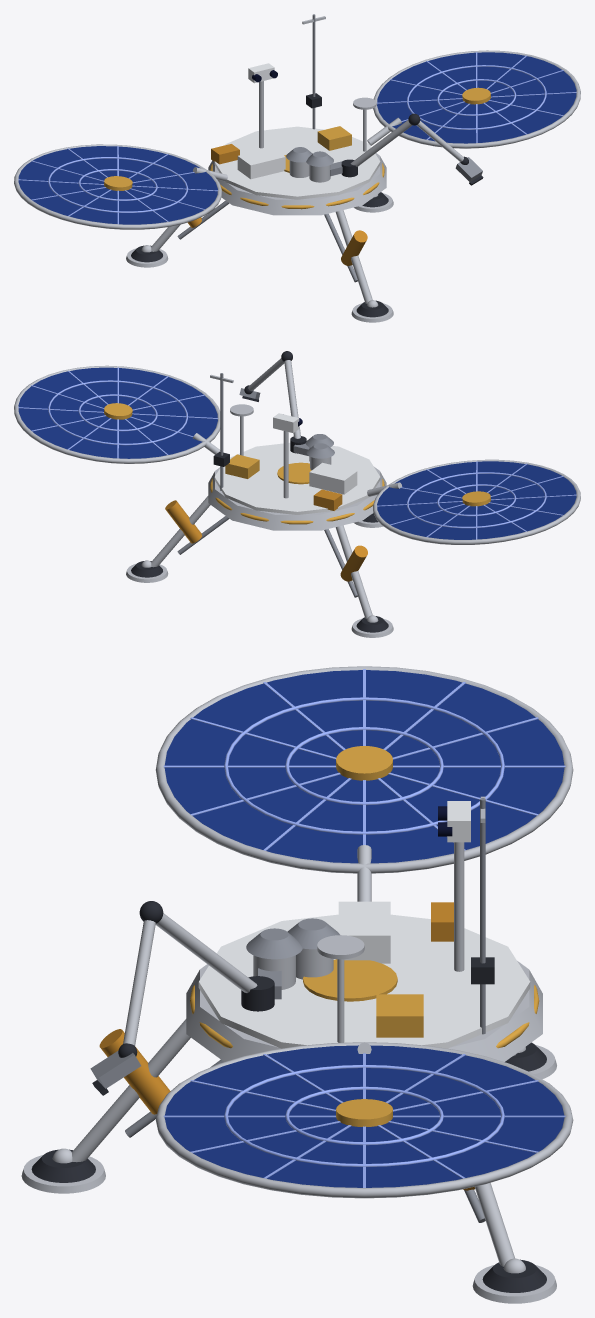
The model's file is phoenix.glb.
3 renders of one model, top to bottom at view 1: azimuth 30°, elevation 25°; view 2: azimuth 150°, elevation 25°; view 3: azimuth 270°, elevation 25°, orthographic. The views are drawn at different scales.
Visible parts, largest first — view 1: solar-fan (×2), phoenix, footpad (×3), scoop; view 2: solar-fan (×2), phoenix, footpad (×2); view 3: solar-fan (×2), phoenix, footpad (×3), scoop.
Part boxes in pixels (bbox=[...]): solar-fan (×2): bbox=[14, 50, 580, 229]; phoenix: bbox=[151, 14, 468, 303]; footpad (×3): bbox=[126, 192, 393, 322]; scoop: bbox=[455, 157, 483, 185]; solar-fan (×2): bbox=[14, 365, 580, 544]; phoenix: bbox=[151, 351, 402, 619]; footpad (×2): bbox=[126, 560, 393, 637]; solar-fan (×2): bbox=[155, 666, 573, 1198]; phoenix: bbox=[71, 796, 542, 1266]; footpad (×3): bbox=[21, 1042, 556, 1303]; scoop: bbox=[90, 1050, 141, 1095].
Size of the model in its own units: 5.26 by 1.97 by 2.33.
